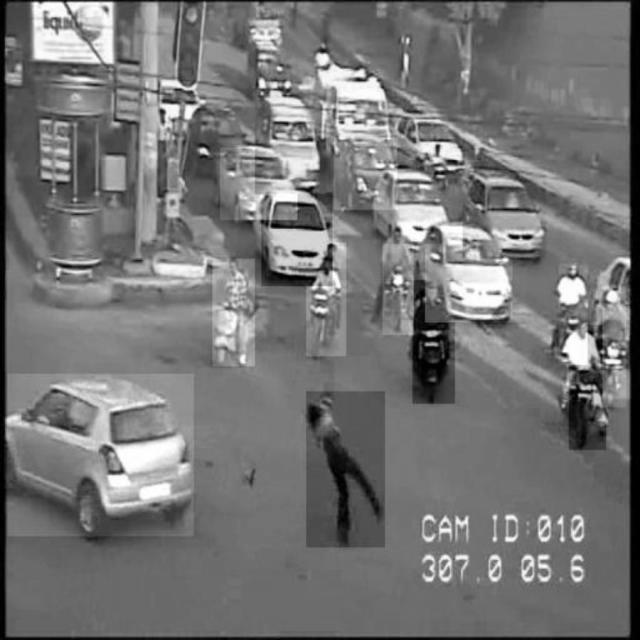accident: (8, 374, 194, 536)
person: (307, 392, 385, 548)
vehicle: (425, 223, 513, 323), (463, 166, 546, 258), (256, 93, 327, 194), (261, 193, 332, 286), (221, 148, 298, 220), (414, 280, 456, 404), (374, 168, 441, 244), (334, 138, 398, 210), (569, 325, 606, 449), (214, 258, 256, 366), (307, 243, 347, 356), (397, 116, 465, 180), (383, 225, 413, 335), (603, 287, 627, 408), (559, 264, 587, 365)
